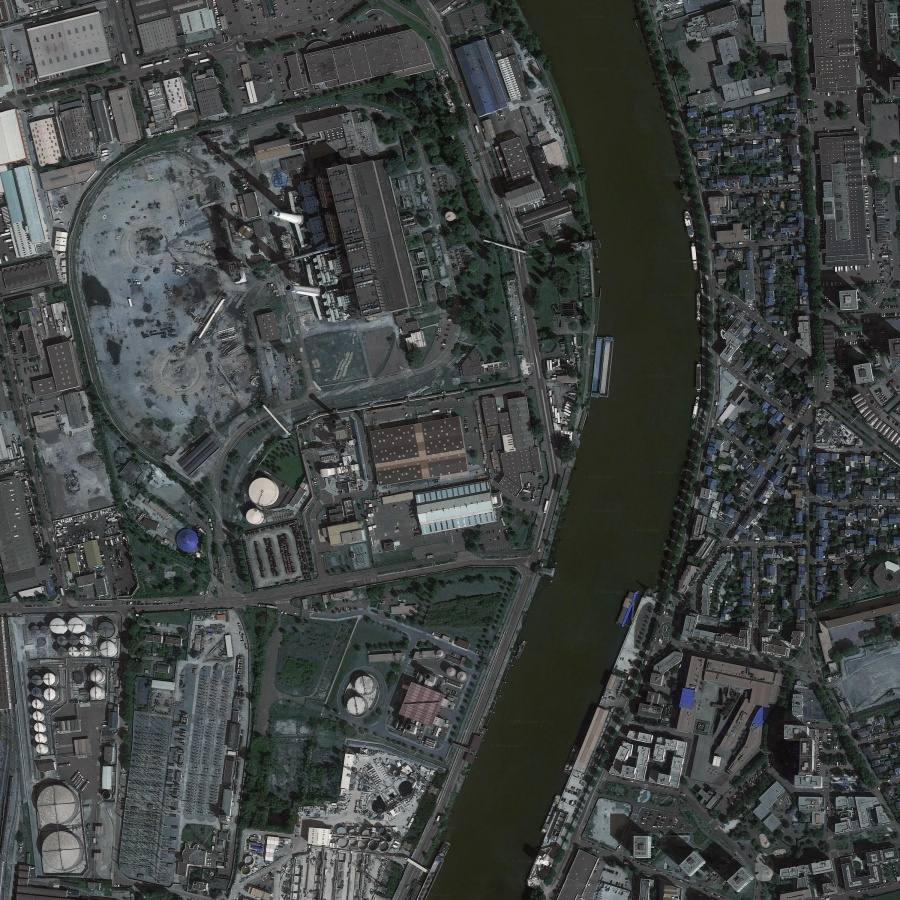PowerPlant: (196, 124, 401, 524)
